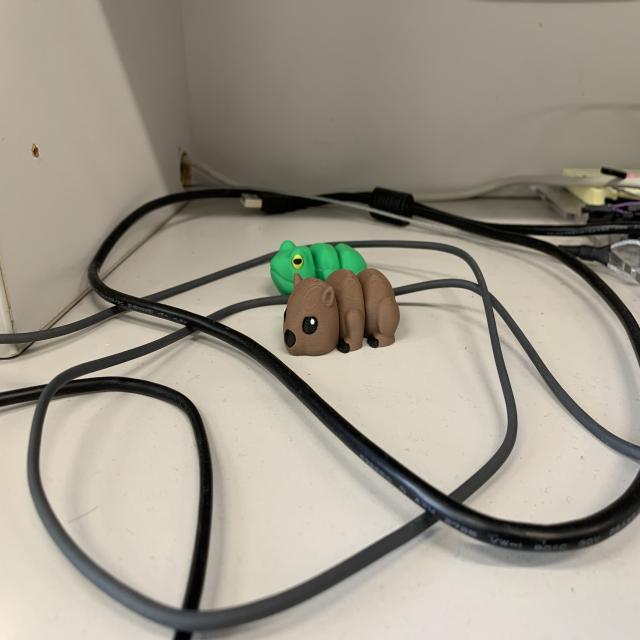frog: (264, 234, 368, 296)
wombat: (280, 266, 402, 364)
